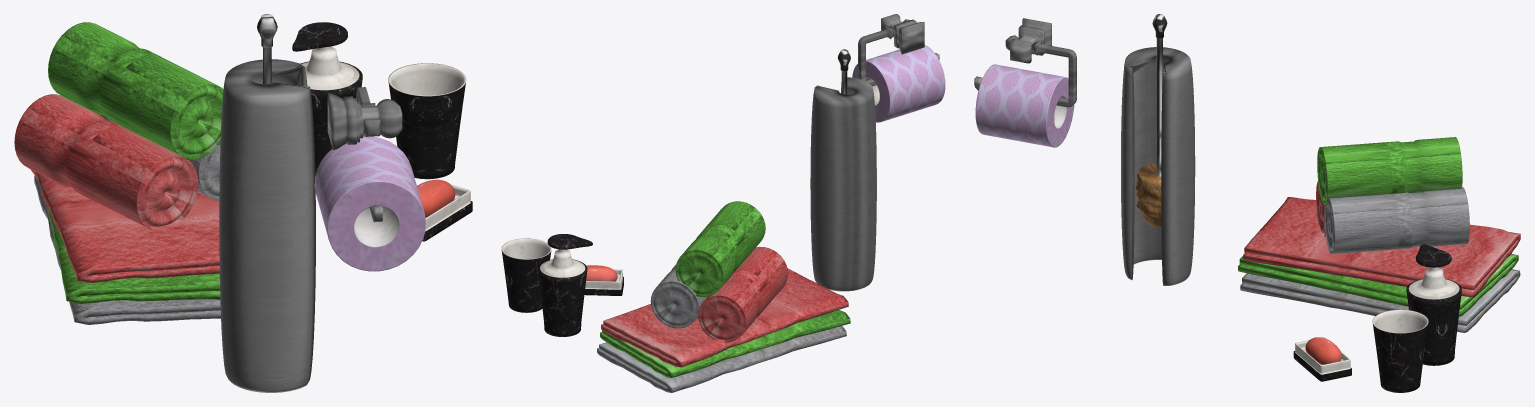
The model's file is Utileriabano.obj.
The picture shows the model from 3 angles, left to right: view 1: azimuth 30°, elevation 25°; view 2: azimuth 150°, elevation 25°; view 3: azimuth 270°, elevation 25°; orthographic projection. The views are drawn at different scales.
Visible parts, largest first — view 1: Brush_2_Cylinder_009, Towel_2_Cylinder_002, Towel_3_Cylinder_003, Towel_square_3_Cylinder_012, Paper_2_Cylinder_014, Cup_Cylinder_001, Towel_square_2_Cylinder_011, Towel_square_Cylinder_008, Paper_1_Cylinder_013, Soap_1_Cylinder_004, Box_Cylinder_007, Soap_2_Cylinder_006 (+3 smaller); view 2: Brush_2_Cylinder_009, Towel_square_3_Cylinder_012, Towel_3_Cylinder_003, Towel_2_Cylinder_002, Paper_2_Cylinder_014, Towel_square_Cylinder_008, Soap_1_Cylinder_004, Towel_square_2_Cylinder_011, Cup_Cylinder_001, Towel_1_Cylinder, Paper_1_Cylinder_013, Box_Cylinder_007 (+3 smaller); view 3: Brush_2_Cylinder_009, Towel_square_3_Cylinder_012, Towel_1_Cylinder, Towel_3_Cylinder_003, Paper_2_Cylinder_014, Towel_square_Cylinder_008, Cup_Cylinder_001, Soap_1_Cylinder_004, Towel_square_2_Cylinder_011, Brush_1_Cylinder_005, Paper_1_Cylinder_013, Box_Cylinder_007 (+2 smaller).
Boxes of the visible parts, left/top/right/bottom form: Brush_2_Cylinder_009: left=219, top=59, right=315, bottom=392; Towel_2_Cylinder_002: left=14, top=94, right=198, bottom=229; Towel_3_Cylinder_003: left=48, top=22, right=223, bottom=159; Towel_square_3_Cylinder_012: left=30, top=169, right=219, bottom=282; Paper_2_Cylinder_014: left=314, top=136, right=425, bottom=271; Cup_Cylinder_001: left=388, top=63, right=466, bottom=179; Towel_square_2_Cylinder_011: left=48, top=208, right=220, bottom=303; Towel_square_Cylinder_008: left=34, top=175, right=220, bottom=324; Paper_1_Cylinder_013: left=327, top=87, right=402, bottom=222; Soap_1_Cylinder_004: left=300, top=46, right=362, bottom=175; Box_Cylinder_007: left=422, top=184, right=472, bottom=241; Soap_2_Cylinder_006: left=292, top=22, right=347, bottom=51; Brush_2_Cylinder_009: left=810, top=77, right=876, bottom=291; Towel_square_3_Cylinder_012: left=601, top=268, right=848, bottom=367; Towel_3_Cylinder_003: left=675, top=201, right=765, bottom=296; Towel_2_Cylinder_002: left=698, top=246, right=788, bottom=342; Paper_2_Cylinder_014: left=852, top=45, right=945, bottom=122; Towel_square_Cylinder_008: left=597, top=326, right=846, bottom=392; Soap_1_Cylinder_004: left=538, top=249, right=587, bottom=336; Towel_square_2_Cylinder_011: left=600, top=310, right=850, bottom=377; Cup_Cylinder_001: left=501, top=238, right=551, bottom=312; Towel_1_Cylinder: left=650, top=265, right=706, bottom=328; Paper_1_Cylinder_013: left=858, top=14, right=939, bottom=86; Box_Cylinder_007: left=584, top=269, right=623, bottom=295; Brush_2_Cylinder_009: left=1121, top=47, right=1195, bottom=285; Towel_square_3_Cylinder_012: left=1243, top=197, right=1520, bottom=297; Towel_1_Cylinder: left=1324, top=187, right=1469, bottom=254; Towel_3_Cylinder_003: left=1317, top=137, right=1462, bottom=204; Paper_2_Cylinder_014: left=975, top=64, right=1074, bottom=147; Towel_square_Cylinder_008: left=1240, top=269, right=1520, bottom=332; Cup_Cylinder_001: left=1372, top=309, right=1428, bottom=392; Soap_1_Cylinder_004: left=1406, top=267, right=1461, bottom=365; Towel_square_2_Cylinder_011: left=1238, top=253, right=1518, bottom=316; Brush_1_Cylinder_005: left=1135, top=14, right=1167, bottom=227; Paper_1_Cylinder_013: left=974, top=18, right=1076, bottom=107; Box_Cylinder_007: left=1293, top=337, right=1351, bottom=381.
Size of the model in its own units: 10.89 by 8.08 by 15.37.
Materials: 13 (13 with a texture image).
